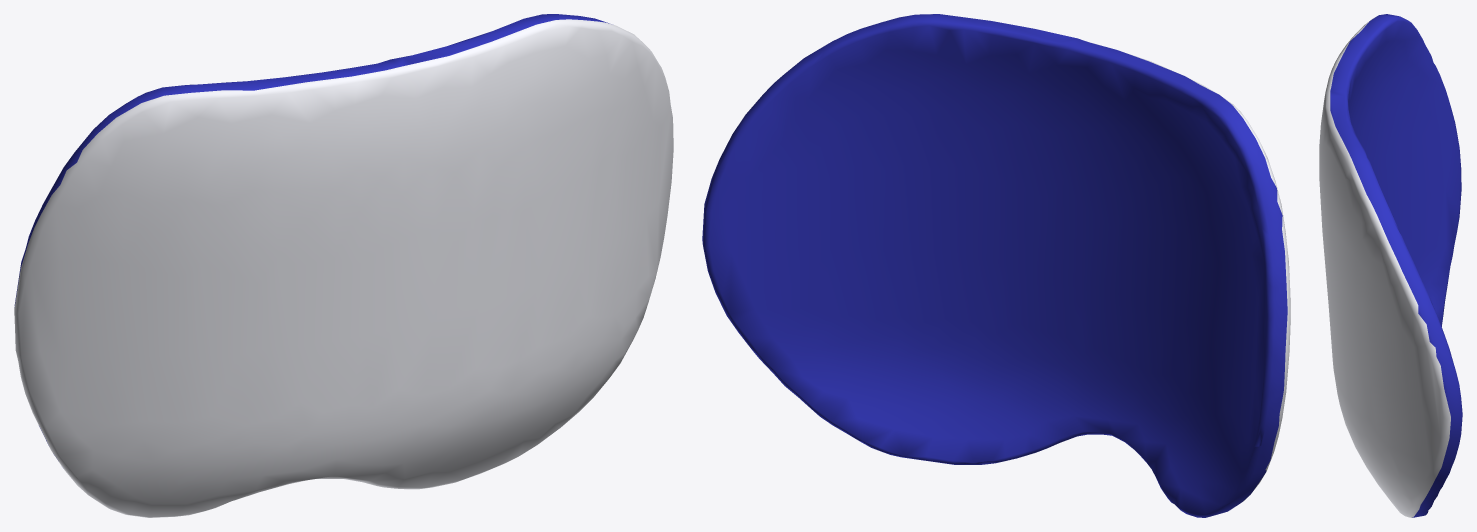
Rendered from plate-bean.glb.
3 renders of one model, left to right at view 1: azimuth 30°, elevation 25°; view 2: azimuth 150°, elevation 25°; view 3: azimuth 270°, elevation 25°, orthographic. The views are drawn at different scales.
Visible parts, largest first — view 1: plate-bean; view 2: plate-bean; view 3: plate-bean.
Part boxes in pixels (left/top/right/bottom): plate-bean: left=14, top=14, right=673, bottom=517; plate-bean: left=702, top=14, right=1290, bottom=517; plate-bean: left=1319, top=14, right=1462, bottom=517.
Bounding box in the file's own units: 0.5745 × 0.3913 × 0.1404.
